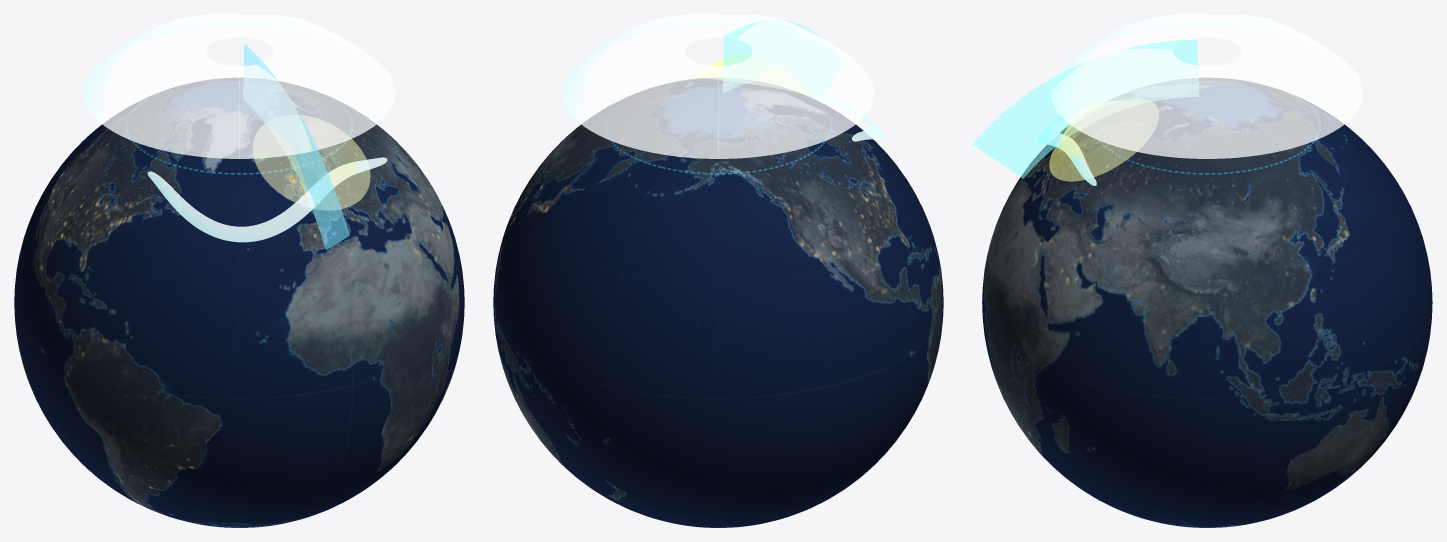
The model's file is atmosphere.glb.
3 views of the same model, side by side, from view 1: azimuth 30°, elevation 25°; view 2: azimuth 150°, elevation 25°; view 3: azimuth 270°, elevation 25° (orthographic).
Visible parts, largest first — view 1: Earth_Globe, PolarVortex_Mesh, Atmosphere_Slice, BlockingHigh_Dome, JetStream_Ribbon; view 2: Earth_Globe, PolarVortex_Mesh, Atmosphere_Slice, BlockingHigh_Dome, JetStream_Ribbon; view 3: Earth_Globe, PolarVortex_Mesh, Atmosphere_Slice, BlockingHigh_Dome, JetStream_Ribbon.
Part boxes in pixels (left/top/right/bottom): Earth_Globe: left=14, top=78, right=464, bottom=527; PolarVortex_Mesh: left=83, top=14, right=395, bottom=158; Atmosphere_Slice: left=244, top=44, right=349, bottom=249; BlockingHigh_Dome: left=254, top=139, right=370, bottom=210; JetStream_Ribbon: left=147, top=157, right=387, bottom=242; Earth_Globe: left=493, top=78, right=943, bottom=527; PolarVortex_Mesh: left=562, top=14, right=874, bottom=158; Atmosphere_Slice: left=723, top=20, right=841, bottom=101; BlockingHigh_Dome: left=690, top=54, right=808, bottom=94; JetStream_Ribbon: left=683, top=74, right=884, bottom=141; Earth_Globe: left=982, top=78, right=1432, bottom=527; PolarVortex_Mesh: left=1051, top=14, right=1363, bottom=158; Atmosphere_Slice: left=972, top=39, right=1198, bottom=178; BlockingHigh_Dome: left=1049, top=101, right=1136, bottom=181; JetStream_Ribbon: left=1038, top=116, right=1096, bottom=185.
Size of the model in its own units: 4 by 4.58 by 4.09.
Materials: 5 (1 with a texture image).
